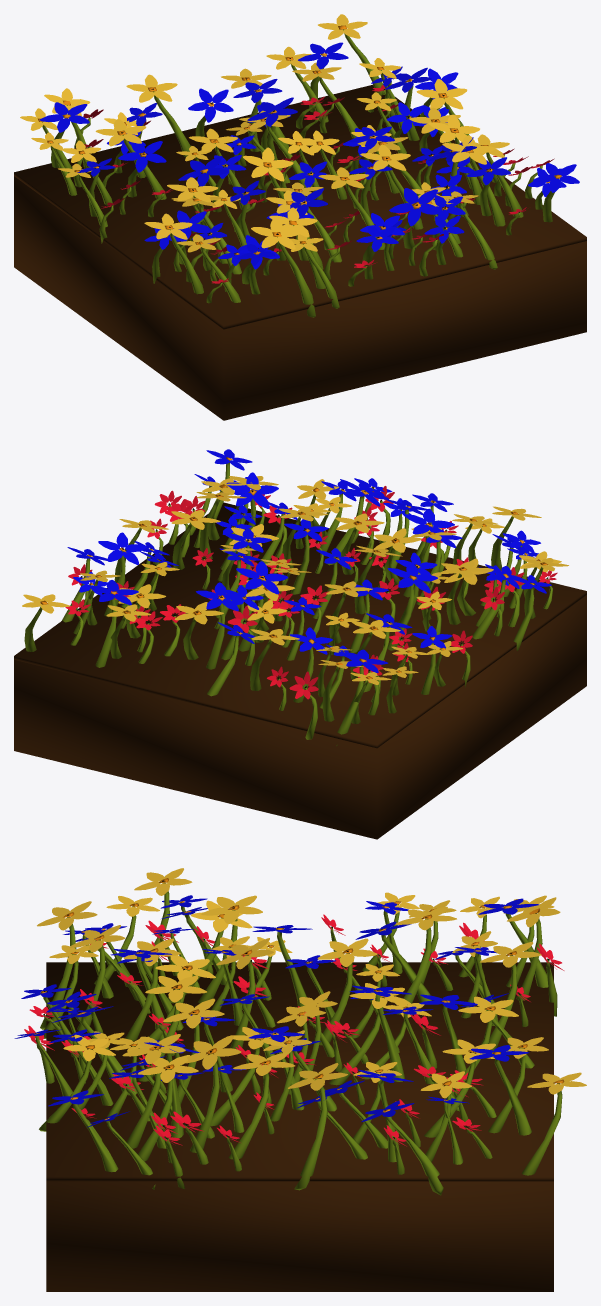
File: flowers.fbx
3 renders of one model, top to bottom at view 1: azimuth 30°, elevation 25°; view 2: azimuth 150°, elevation 25°; view 3: azimuth 270°, elevation 25°, orthographic. The views are drawn at different scales.
Parts seen in each view (by area): view 1: flowerplane|flowerstem|Dupli|117; view 2: flowerplane|flowerstem|Dupli|117; view 3: flowerplane|flowerstem|Dupli|117.
Boxes of the visible parts, x1,y1,x2,y2 form: flowerplane|flowerstem|Dupli|117: (14, 14, 586, 420); flowerplane|flowerstem|Dupli|117: (14, 449, 586, 839); flowerplane|flowerstem|Dupli|117: (14, 868, 586, 1291).
Bounding box in the file's own units: 111 × 45.35 × 113.
